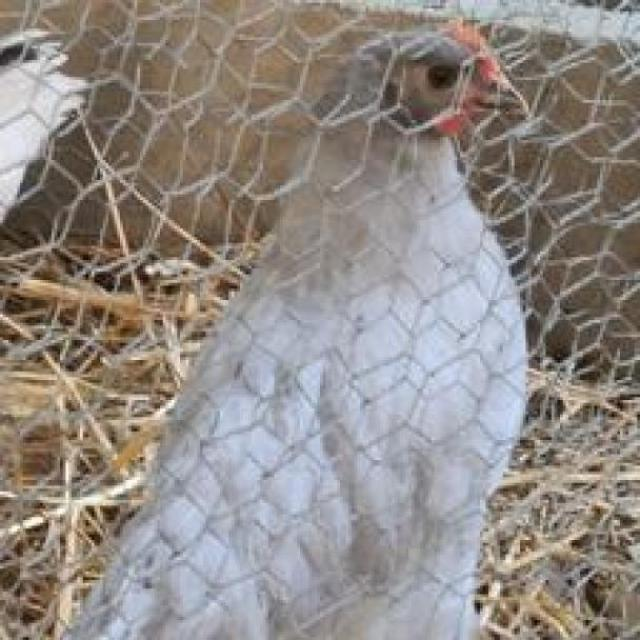Chicken: (94, 11, 639, 640)
